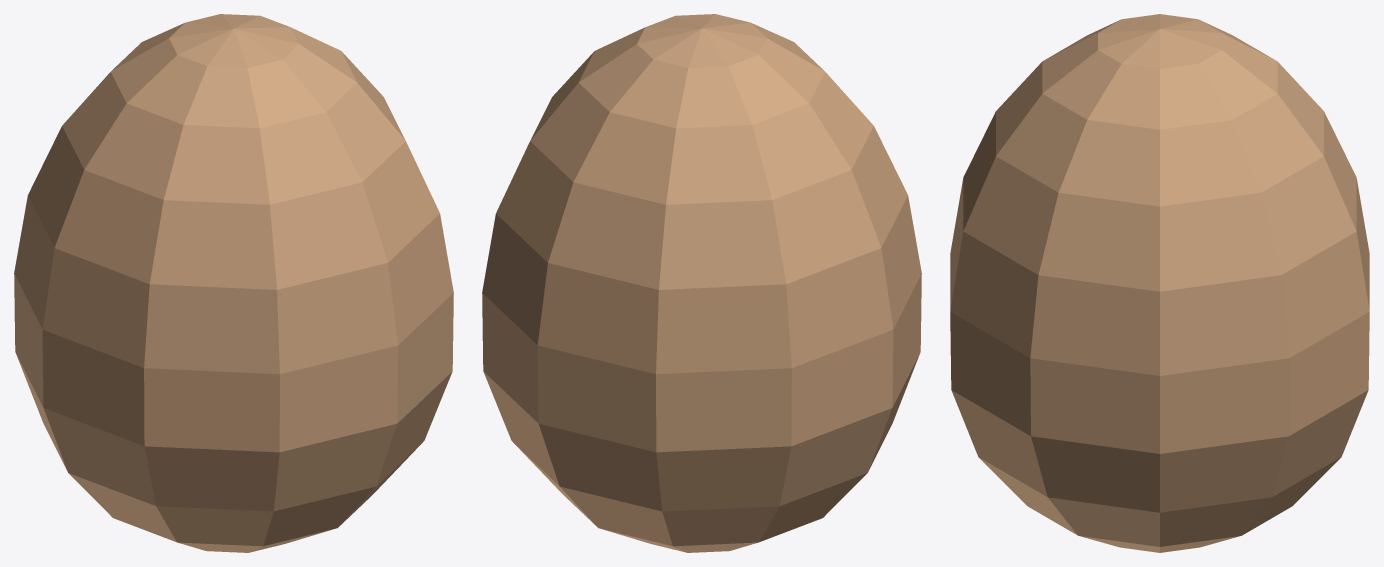
The model's file is Egg.fbx.
3 views of the same model, side by side, from view 1: azimuth 30°, elevation 25°; view 2: azimuth 150°, elevation 25°; view 3: azimuth 270°, elevation 25° (orthographic).
Parts seen in each view (by area): view 1: EGG; view 2: EGG; view 3: EGG.
Boxes of the visible parts, bbox=[...] form: EGG: bbox=[14, 14, 453, 552]; EGG: bbox=[482, 14, 921, 552]; EGG: bbox=[950, 14, 1369, 552].
Size of the model in its own units: 2 by 2.54 by 1.9.
